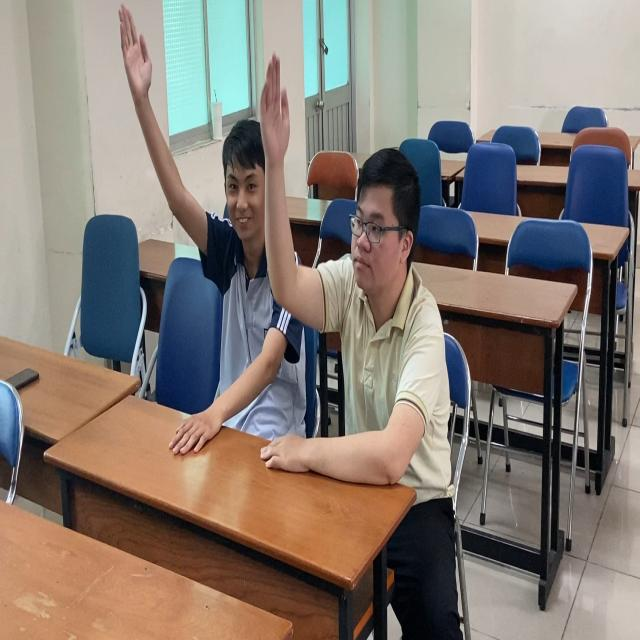raise_hand: (111, 1, 264, 396)
